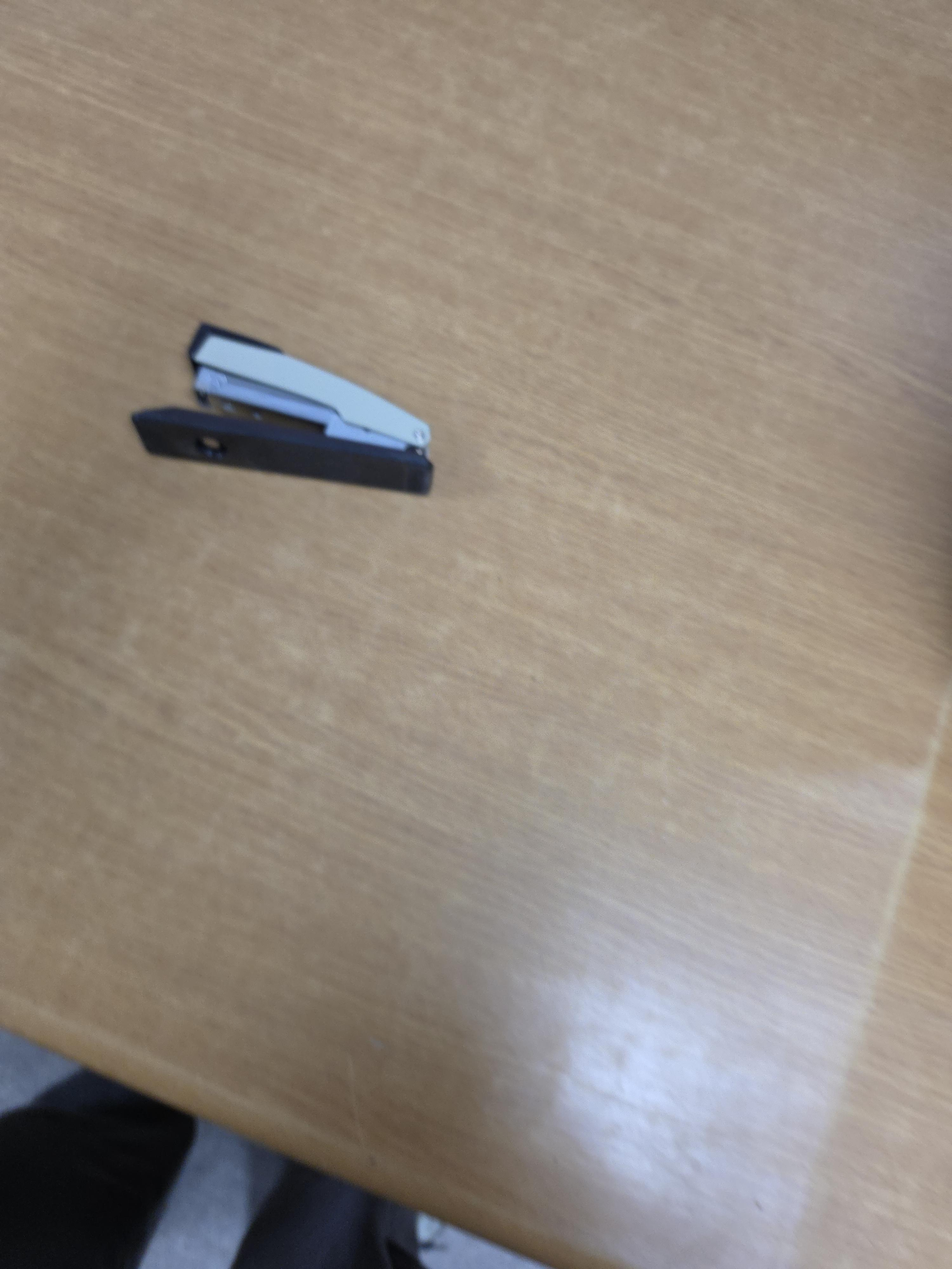stapler: (129, 320, 435, 496)
